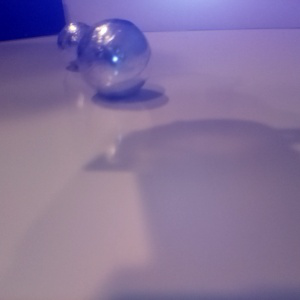alive_ball: (76, 18, 152, 97), (58, 21, 99, 66)
